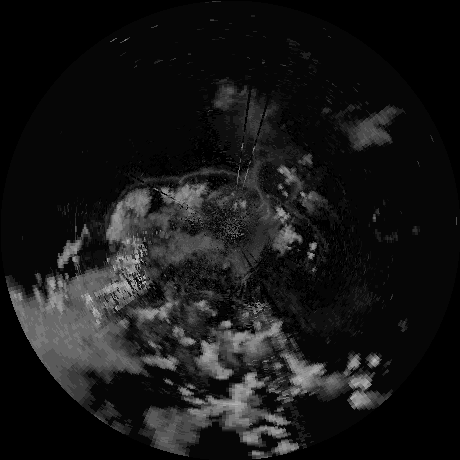frontgust: (182, 167, 268, 205), (278, 199, 326, 239), (115, 174, 186, 194)
